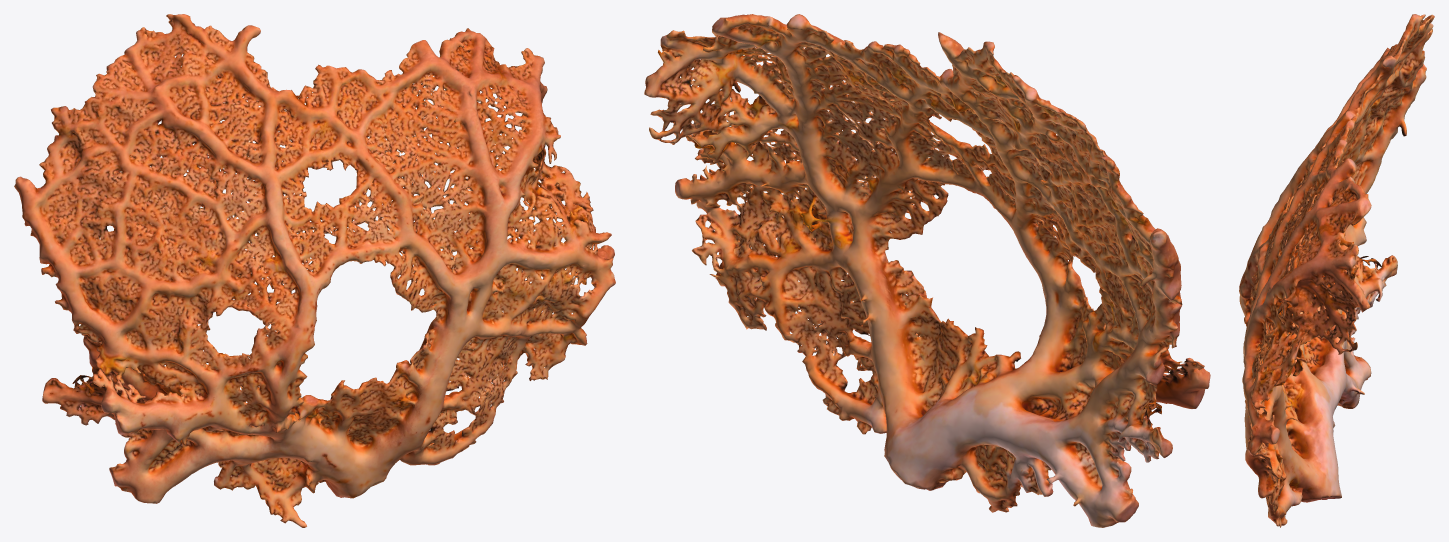
File: Stylaster alaskanus.fbx
The picture shows the model from 3 angles, left to right: view 1: azimuth 30°, elevation 25°; view 2: azimuth 150°, elevation 25°; view 3: azimuth 270°, elevation 25°; orthographic projection. The views are drawn at different scales.
Visible parts, largest first — view 1: Mesh_0; view 2: Mesh_0; view 3: Mesh_0.
Part boxes in pixels (box(x1,y1,x2,y2)): Mesh_0: box(14, 14, 615, 527); Mesh_0: box(644, 14, 1210, 527); Mesh_0: box(1239, 14, 1434, 527).
Size of the model in its own units: 776 by 685 by 266.
Materials: 1 (1 with a texture image).
